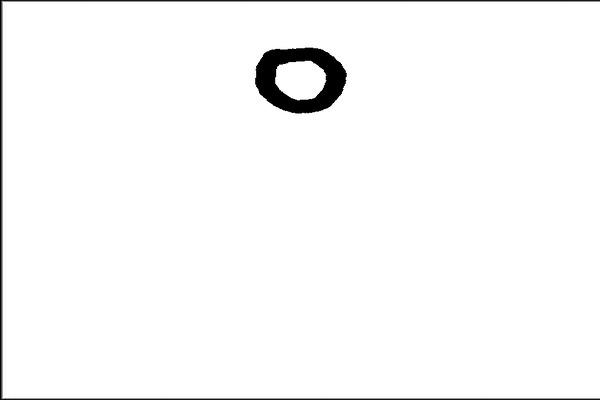O: (245, 37, 355, 120)
